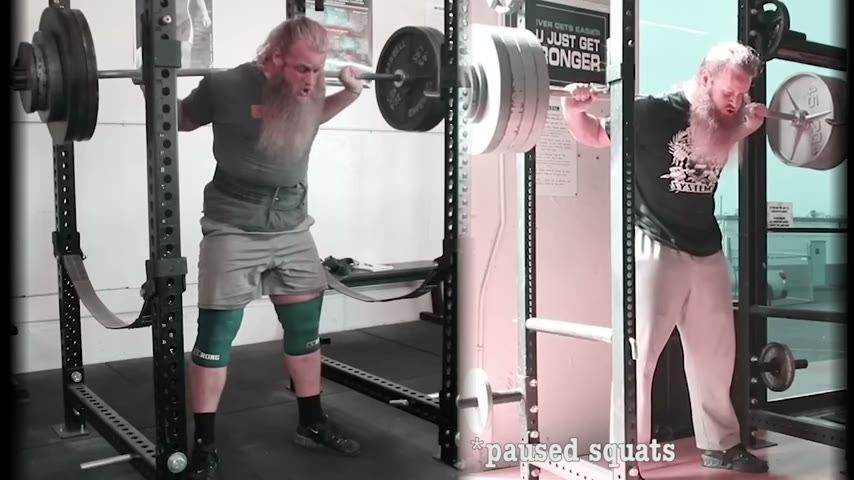barbell_plate_side: (1, 0, 105, 155)
